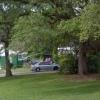Tree: (48, 3, 100, 100)
